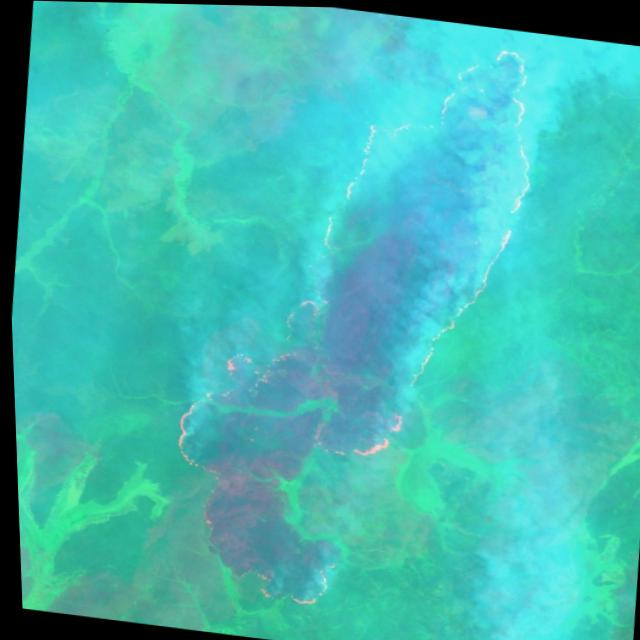fire: (127, 2, 563, 640)
